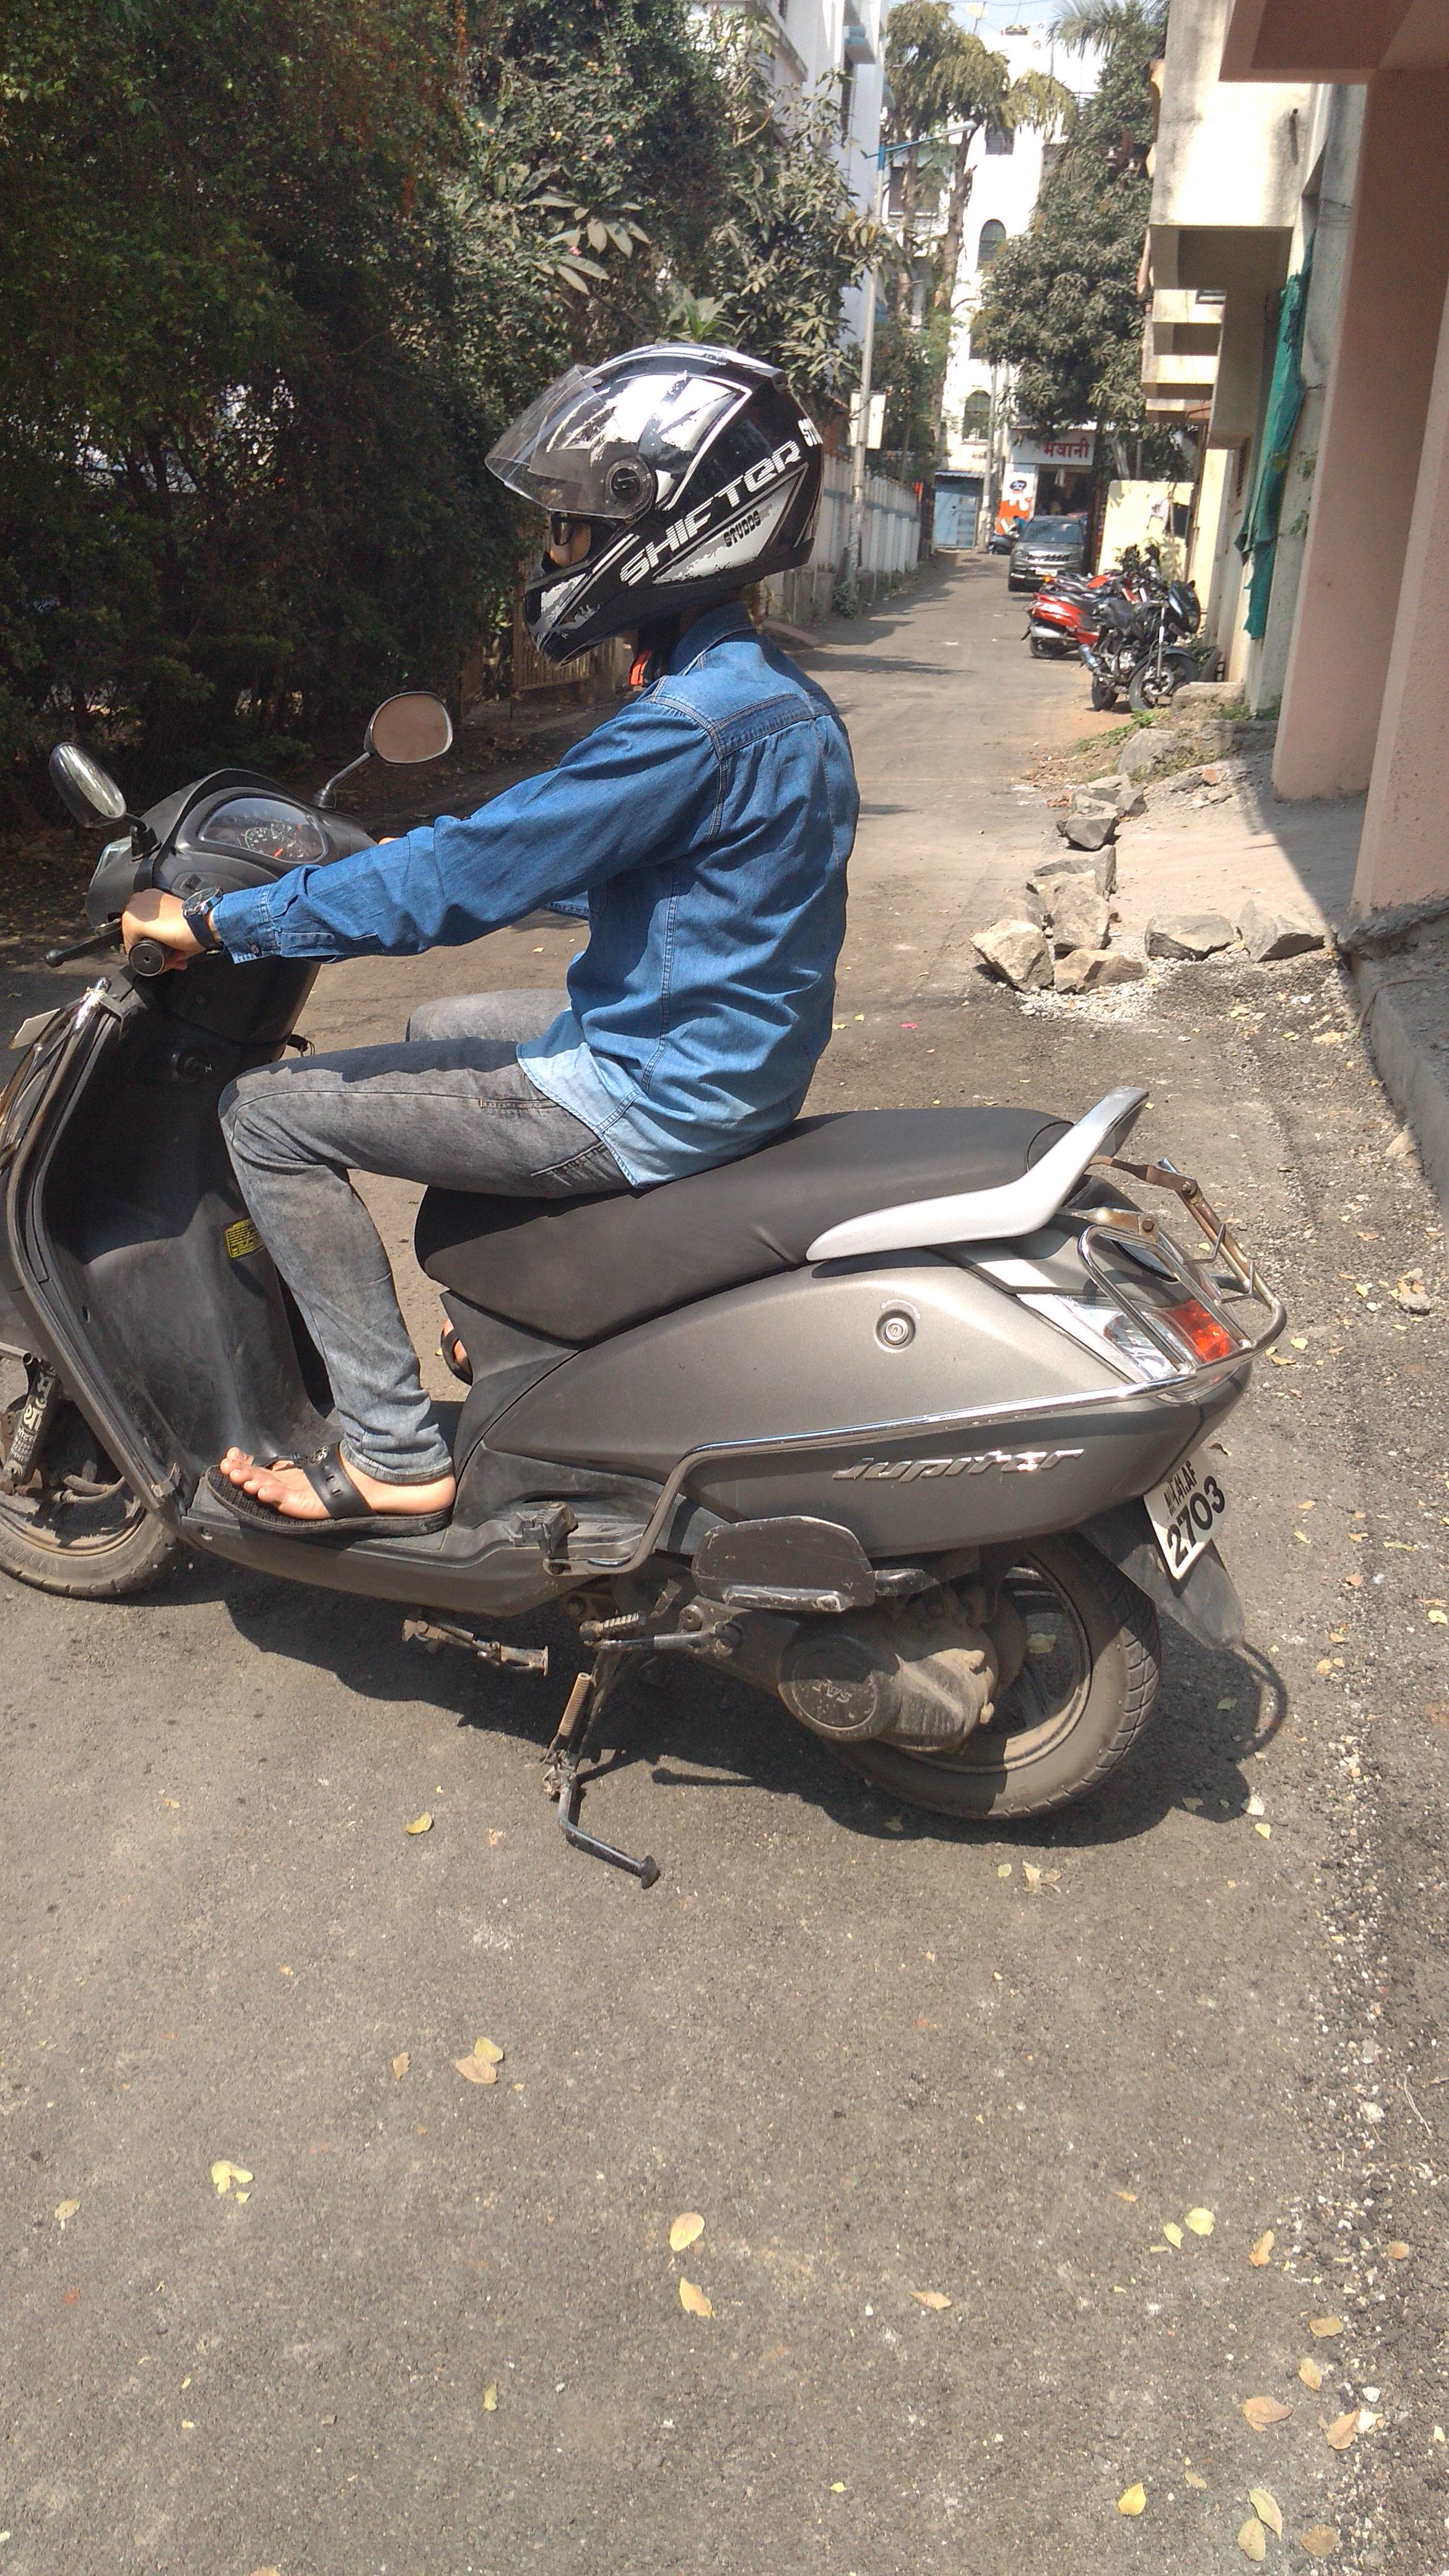helmet: (370, 331, 823, 1260)
